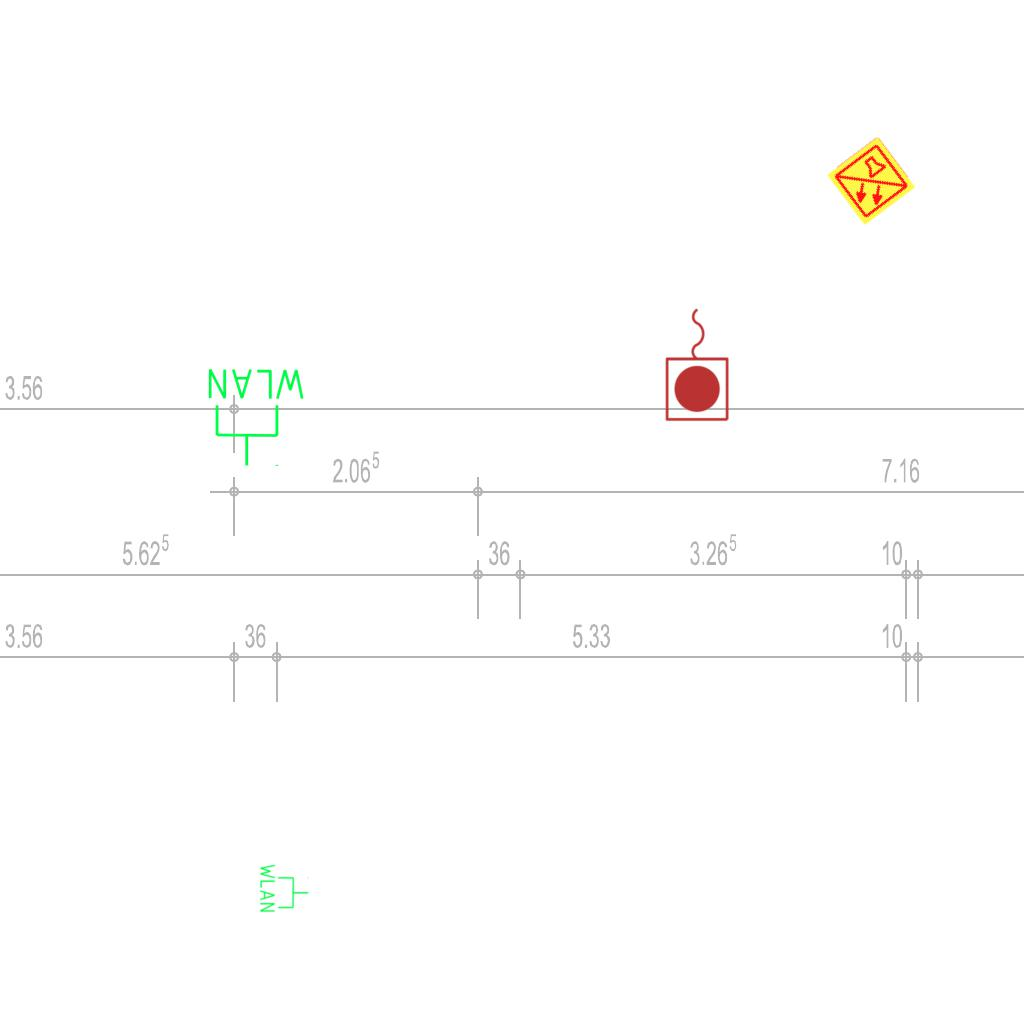OKW_Multisensormelder_(Kombination_optischer_Rauch-Kahlenmonoxid_Waerme-Melder): (824, 134, 918, 228)
WLAN: (204, 365, 309, 469), (258, 862, 310, 914)
Zugtaster: (662, 303, 734, 425)
